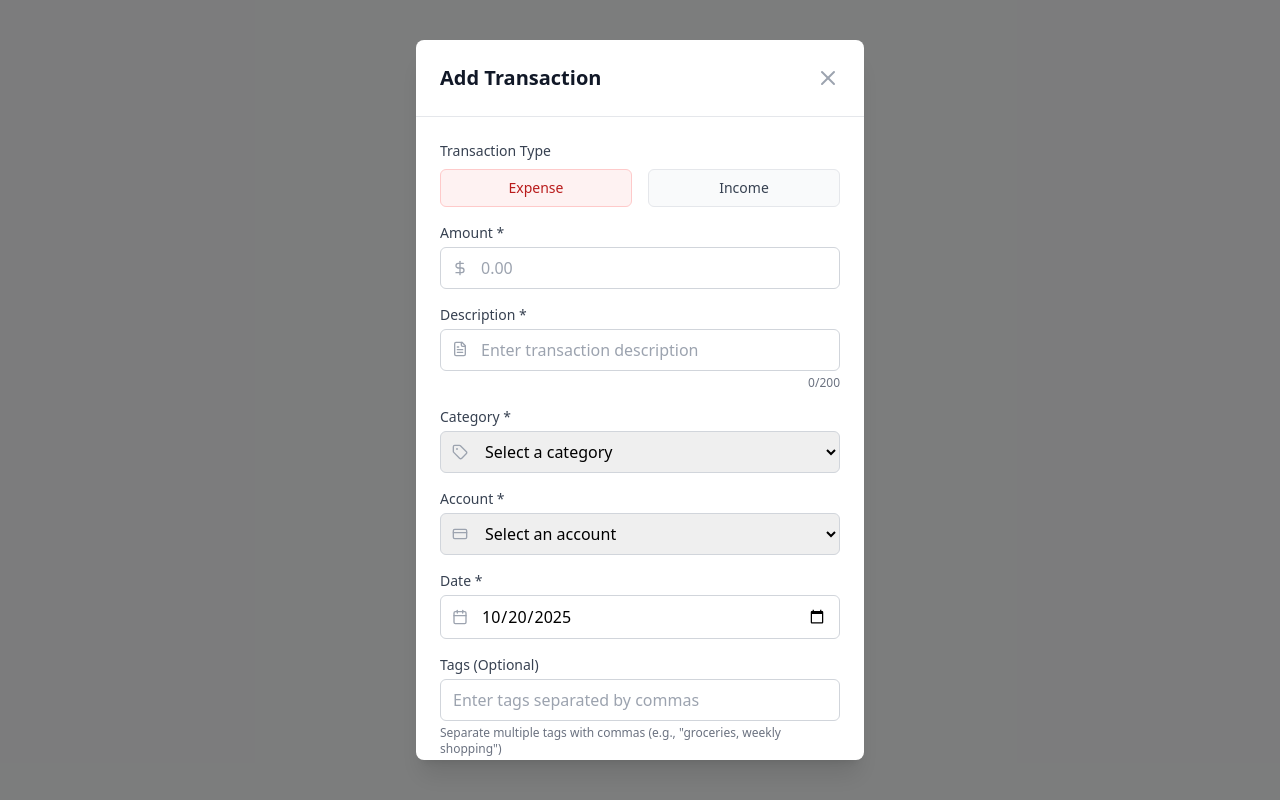
TransactionForm › Form Validation › should validate amount field in real-time
Test invalid amount
Type "0" into the number field labelled "Amount *" at (640, 268), box [440,247,840,289]
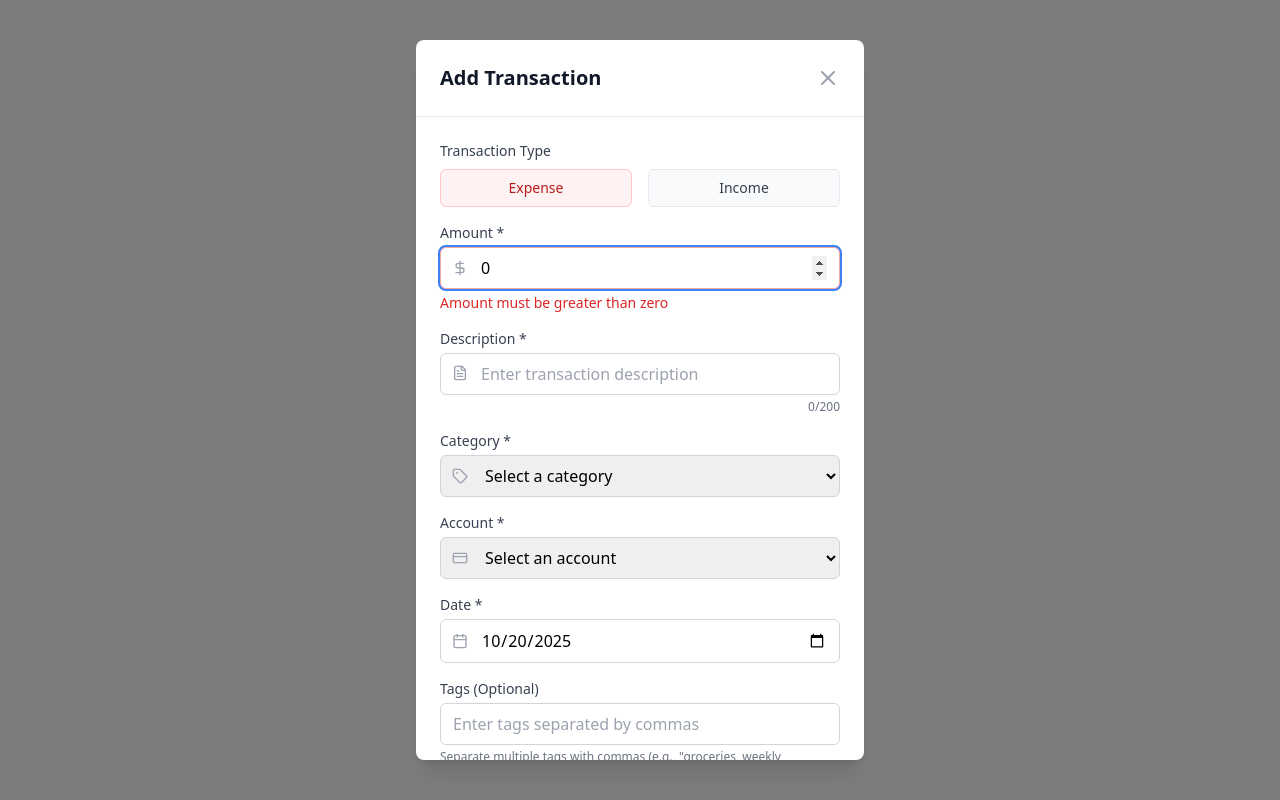
Now the text "Amount must be greater than zero" is shown, box [440,293,668,312]
Test valid amount
Replace the text in the number field labelled "Amount *" with "100" at (640, 268), box [440,247,840,289]
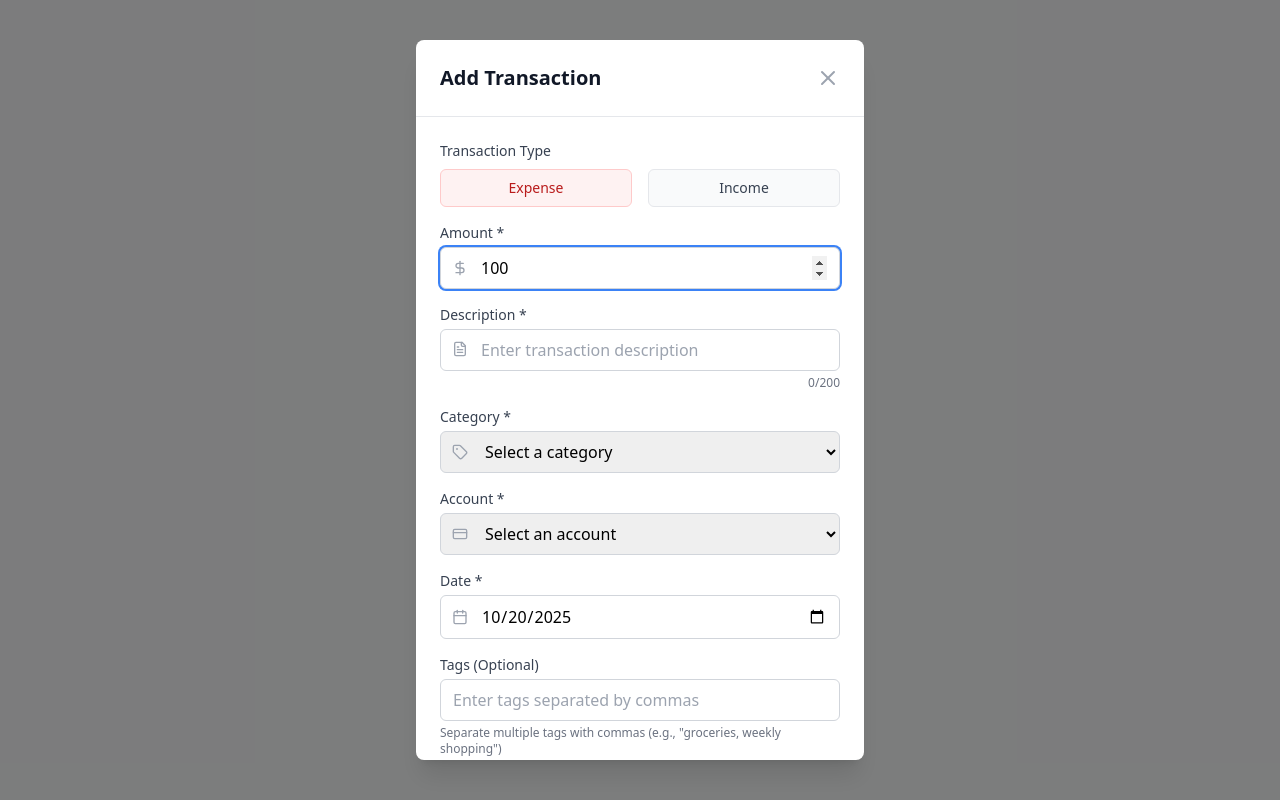
Now the text "Amount must be greater than zero" is gone
